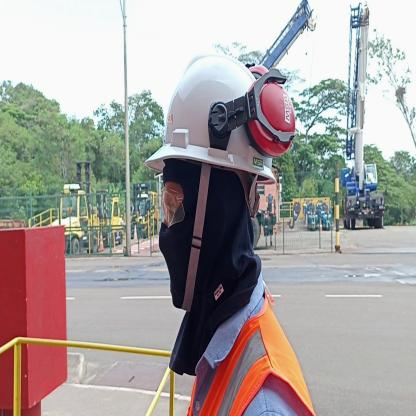Balaclava: (160, 163, 263, 324)
Capacete: (157, 48, 285, 179)
